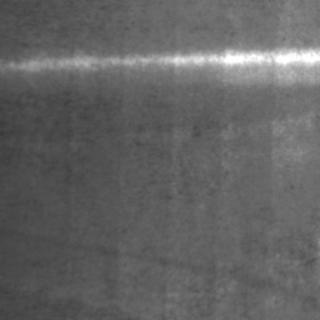scratches: (2, 42, 316, 82)
